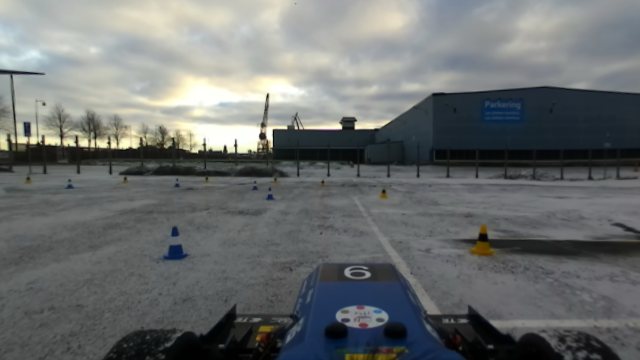blue: (161, 224, 189, 262)
yellow: (468, 223, 496, 257)
